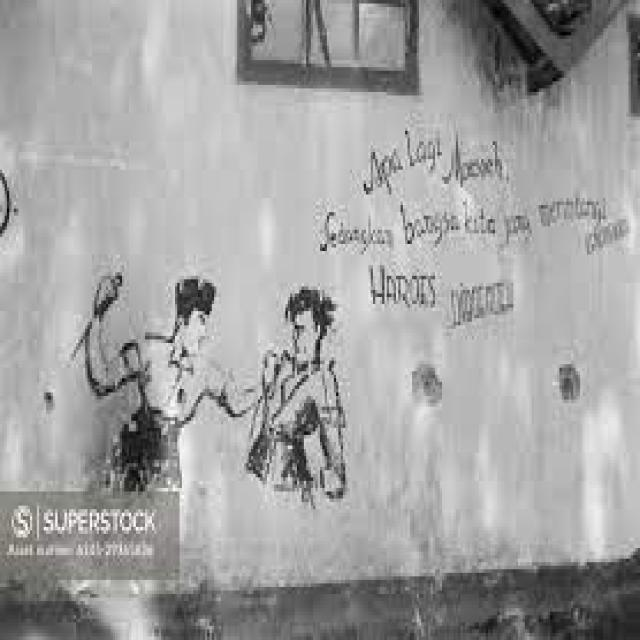-: (73, 266, 349, 504), (319, 127, 629, 325)
